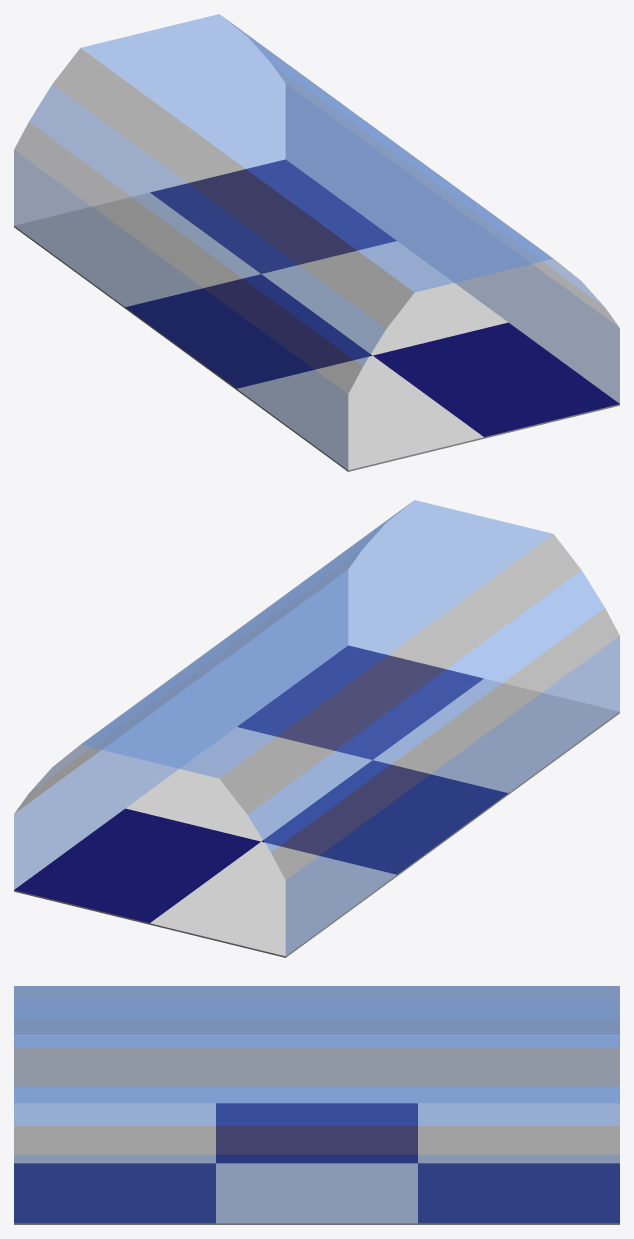
3 views of the same model, one above another, from view 1: azimuth 30°, elevation 25°; view 2: azimuth 150°, elevation 25°; view 3: azimuth 270°, elevation 25° (orthographic). The views are drawn at different scales.
Parts seen in each view (by area): view 1: root; view 2: root; view 3: root.
Boxes of the visible parts, bbox=[...] form: root: bbox=[14, 14, 619, 471]; root: bbox=[14, 500, 619, 957]; root: bbox=[14, 986, 619, 1224].
Size of the model in its own units: 4.47 by 2.57 by 9.52.
